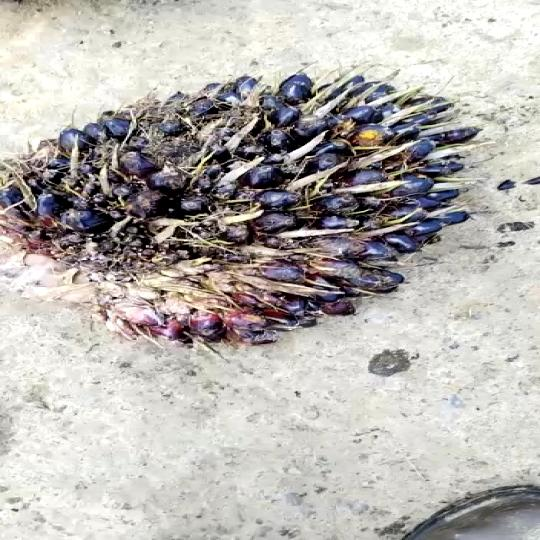mentah: (0, 57, 494, 359)
